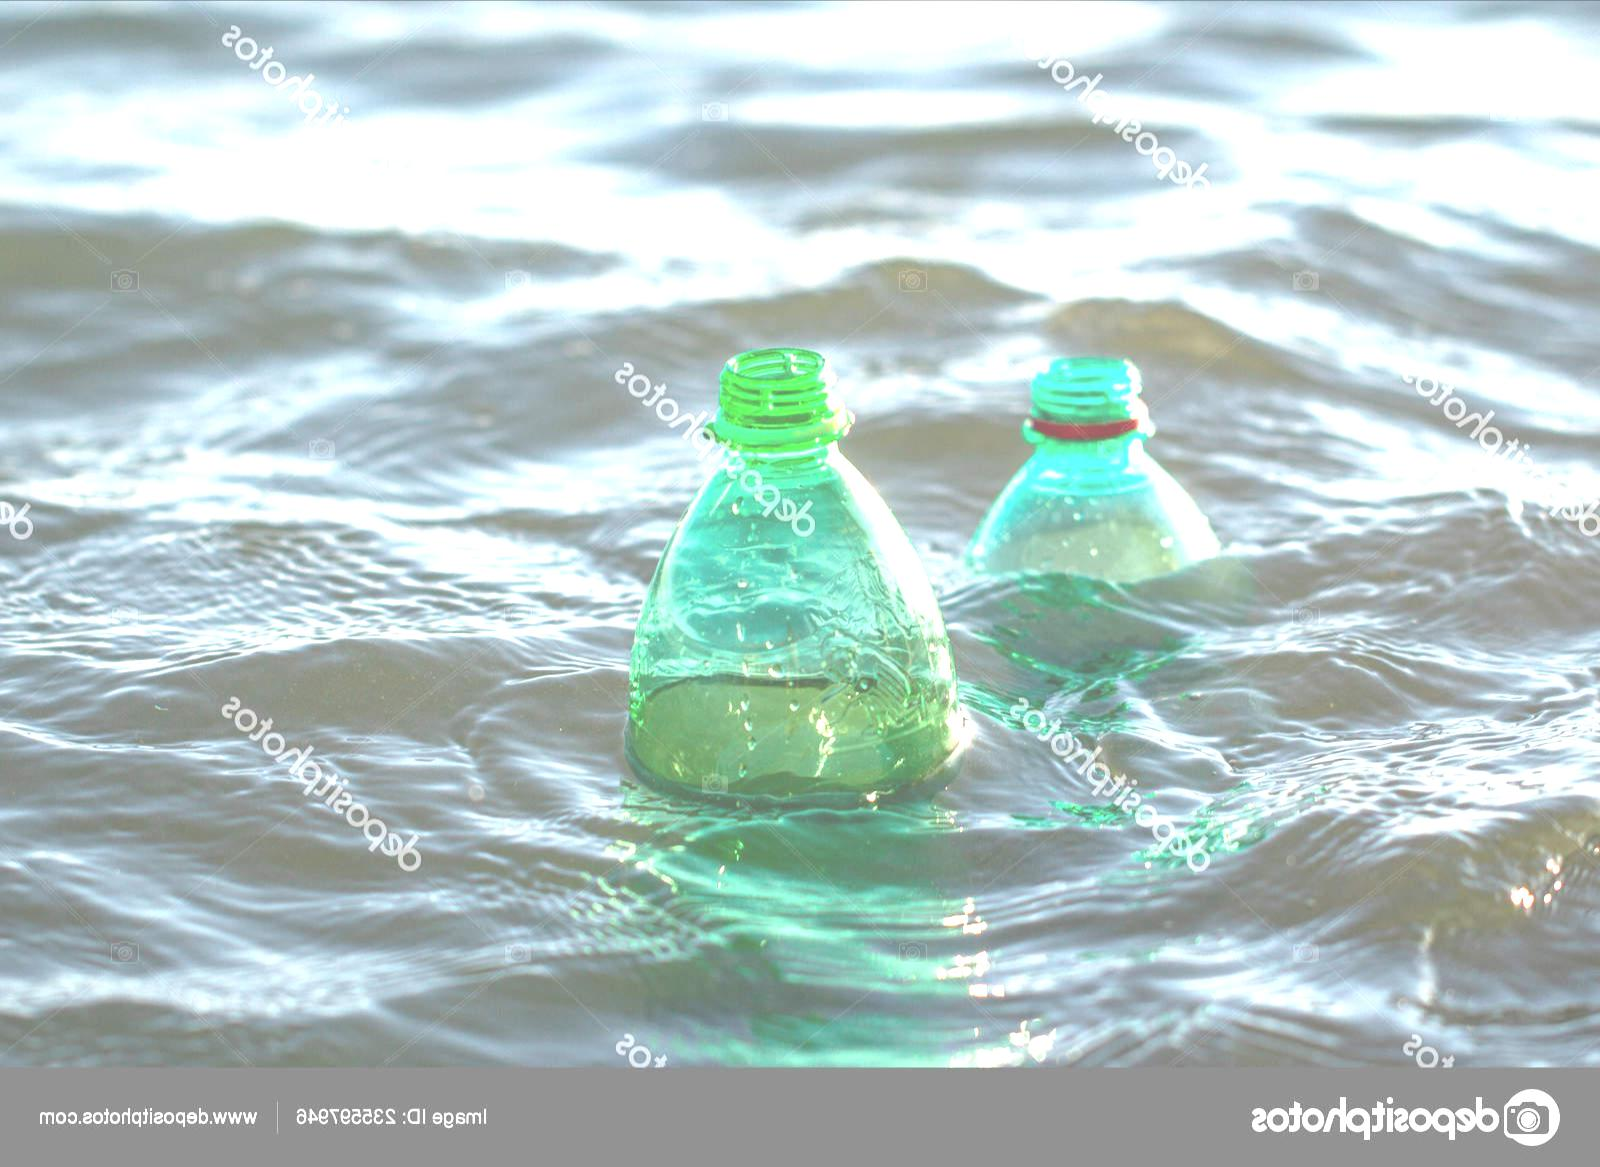bottle: (586, 333, 989, 836), (957, 313, 1232, 646)
